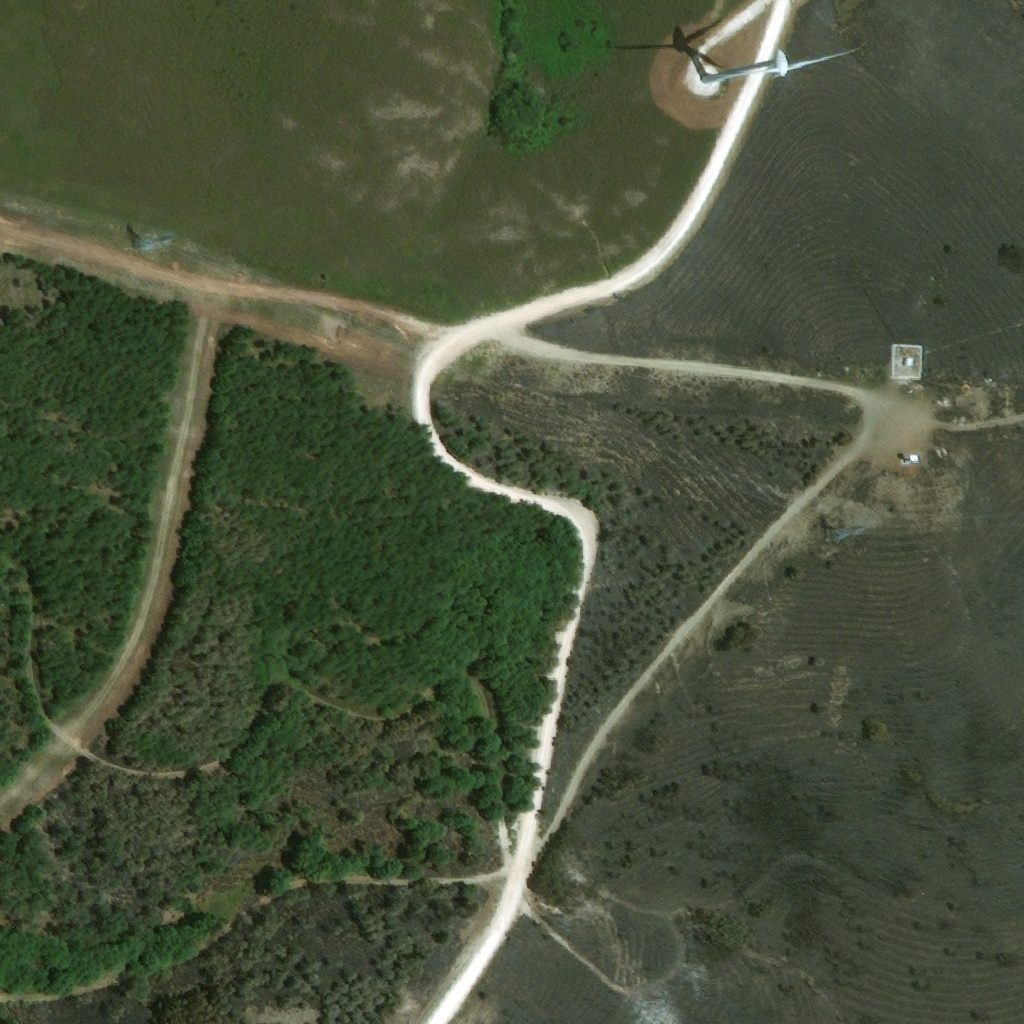0 no-damage: (904, 451, 922, 462), (903, 358, 913, 366)
